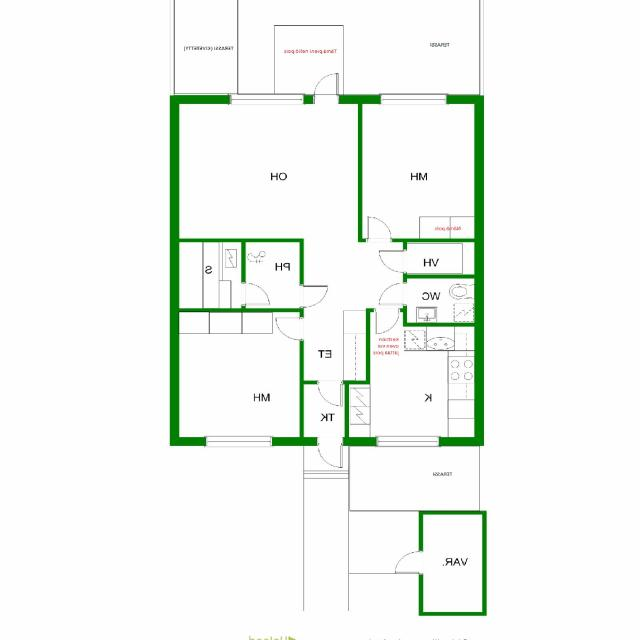door: (314, 72, 338, 104), (318, 437, 342, 468), (394, 552, 423, 574), (367, 217, 391, 242), (318, 381, 342, 406), (242, 283, 269, 305), (380, 283, 407, 305), (300, 286, 328, 307), (276, 318, 303, 339), (380, 251, 407, 272)
